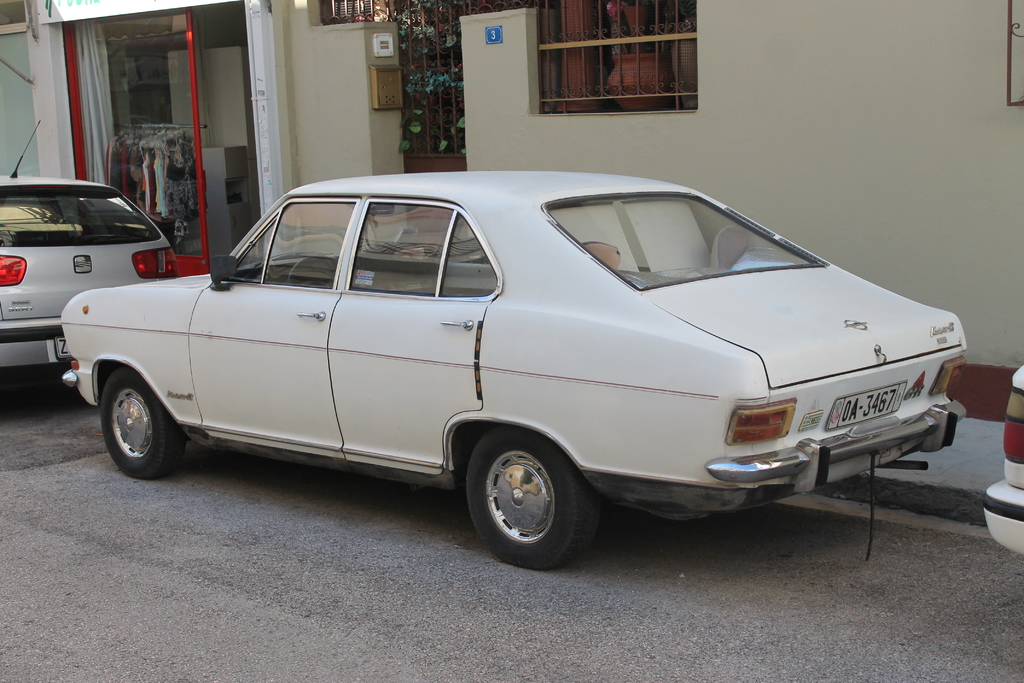Car: (60, 151, 983, 580), (0, 123, 188, 382), (980, 360, 1023, 563)
